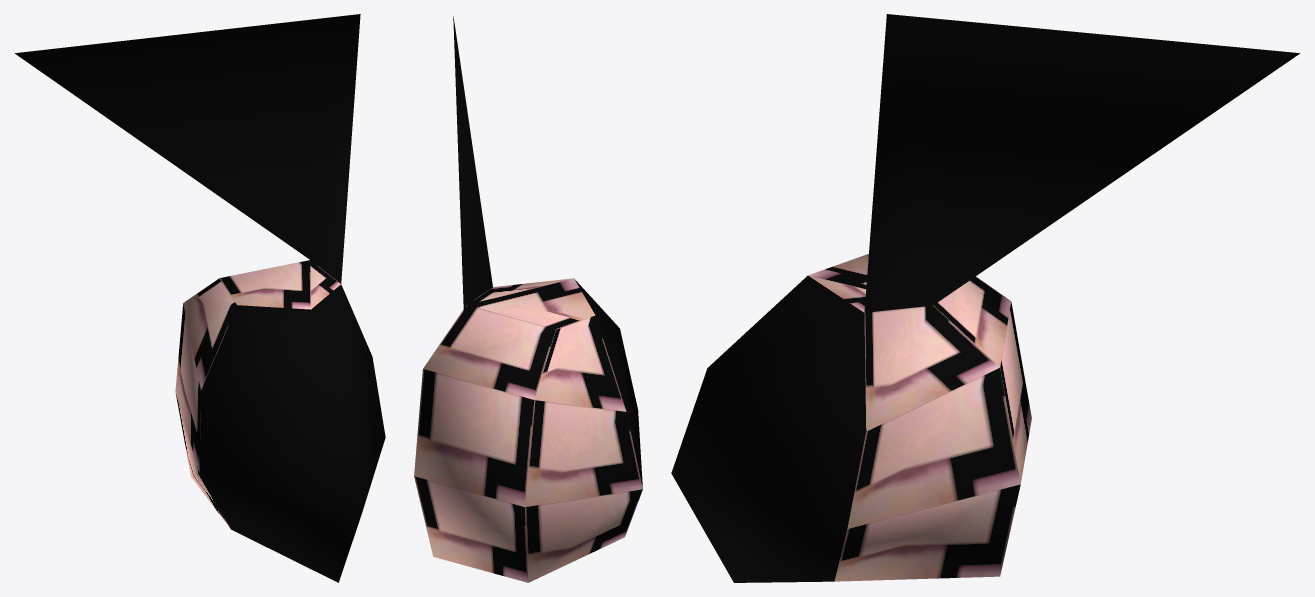
The picture shows the model from 3 angles, left to right: view 1: azimuth 30°, elevation 25°; view 2: azimuth 150°, elevation 25°; view 3: azimuth 270°, elevation 25°; orthographic projection. The views are drawn at different scales.
Parts seen in each view (by area): view 1: T1L6M006_14; view 2: T1L6M006_14; view 3: T1L6M006_14.
Boxes of the visible parts, left/top/right/bottom form: T1L6M006_14: left=15, top=14, right=385, bottom=582; T1L6M006_14: left=414, top=16, right=642, bottom=582; T1L6M006_14: left=671, top=14, right=1299, bottom=582.
Bounding box in the file's own units: 0.3027 × 0.7773 × 0.7158.
